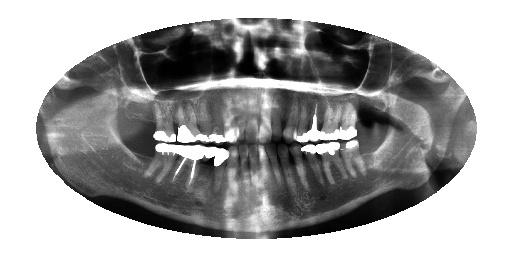i10healthy: (235, 140, 252, 190)
i11healthy: (223, 143, 244, 190)
i12healthy: (212, 141, 232, 197)
i13loss: (193, 141, 218, 189)
i14healthy: (169, 146, 207, 190)
i15healthy: (139, 136, 181, 187)
i2healthy: (336, 134, 370, 179)
i3healthy: (313, 138, 350, 185)
i4healthy: (296, 140, 329, 189)
i5healthy: (288, 138, 311, 193)
i6healthy: (273, 140, 300, 195)
i7healthy: (265, 139, 290, 197)
i8healthy: (255, 139, 273, 188)
i9healthy: (244, 138, 262, 190)
u10healthy: (231, 86, 249, 145)
u11healthy: (219, 87, 241, 144)
u12healthy: (203, 93, 228, 148)
u13healthy: (191, 93, 214, 145)
u14healthy: (173, 92, 202, 144)
u15healthy: (149, 96, 178, 145)
u2healthy: (336, 91, 360, 143)
u3healthy: (316, 94, 345, 143)
u4healthy: (304, 95, 322, 144)
u5healthy: (291, 92, 312, 146)
u6healthy: (280, 91, 301, 144)
u7decay: (268, 88, 284, 145)
u8healthy: (257, 88, 275, 147)
u9healthy: (241, 83, 260, 144)
